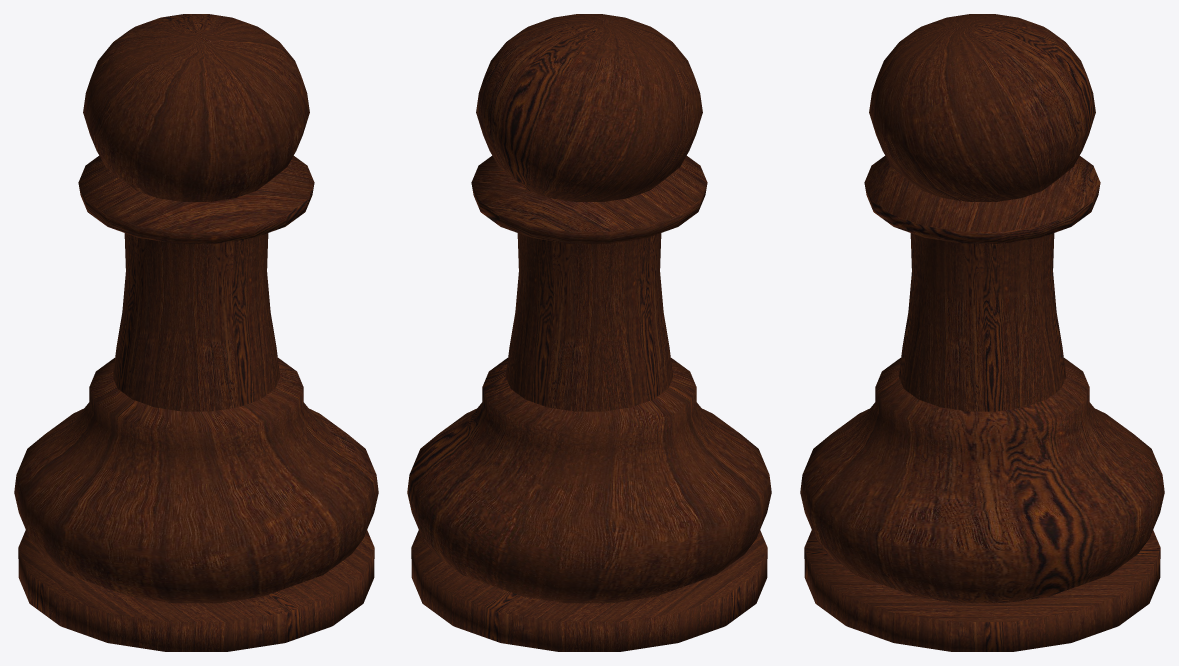
The model's file is black_pawn.obj.
3 renders of one model, left to right at view 1: azimuth 30°, elevation 25°; view 2: azimuth 150°, elevation 25°; view 3: azimuth 270°, elevation 25°, orthographic.
Parts seen in each view (by area): view 1: Pawn_B1_Material_006_0.001; view 2: Pawn_B1_Material_006_0.001; view 3: Pawn_B1_Material_006_0.001.
Part boxes in pixels (<box>): Pawn_B1_Material_006_0.001: <box>14,14,378,651</box>; Pawn_B1_Material_006_0.001: <box>407,14,771,651</box>; Pawn_B1_Material_006_0.001: <box>800,14,1164,651</box>.
Bounding box in the file's own units: 2.75 × 4.72 × 2.79.
